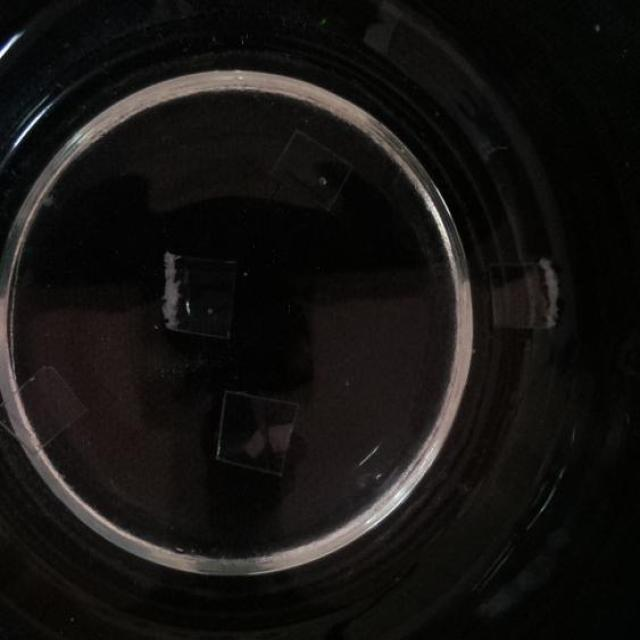fiber: (209, 387, 304, 479), (0, 365, 91, 459), (264, 123, 354, 215), (158, 249, 239, 335), (476, 256, 562, 335)
